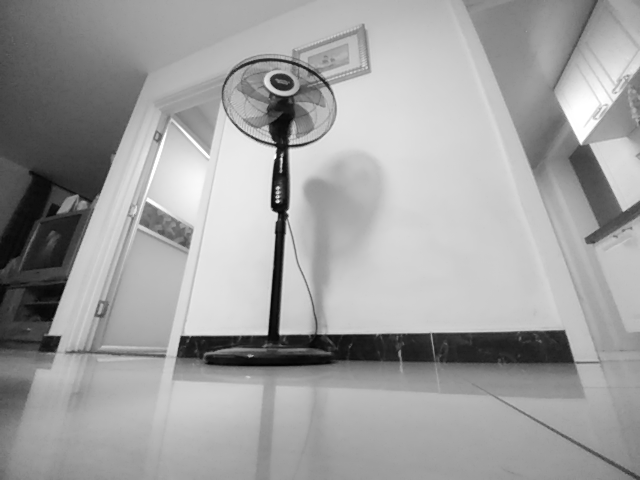bar stool: (200, 327, 343, 370)
